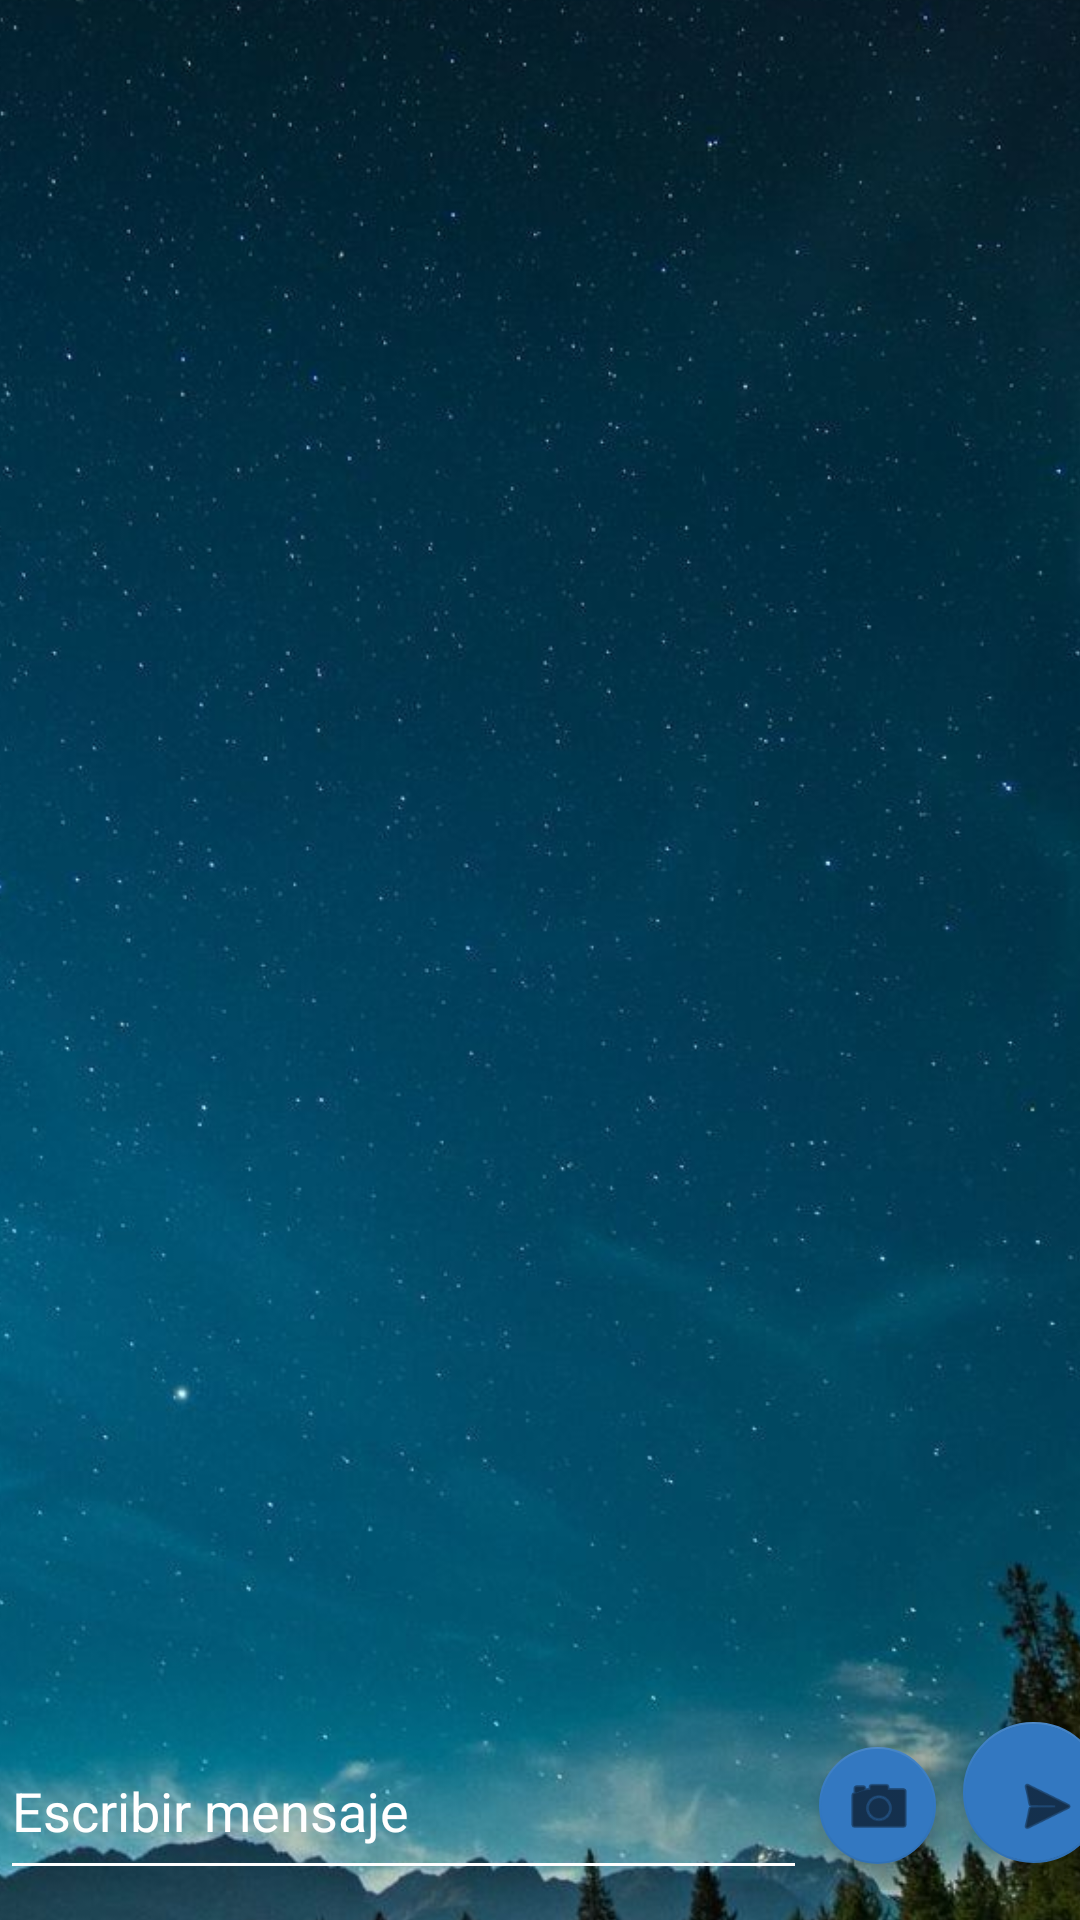

Named icons in this screenshot (1080px×1920px) and their centers, point (x, y):
camera: point (877, 1805)
